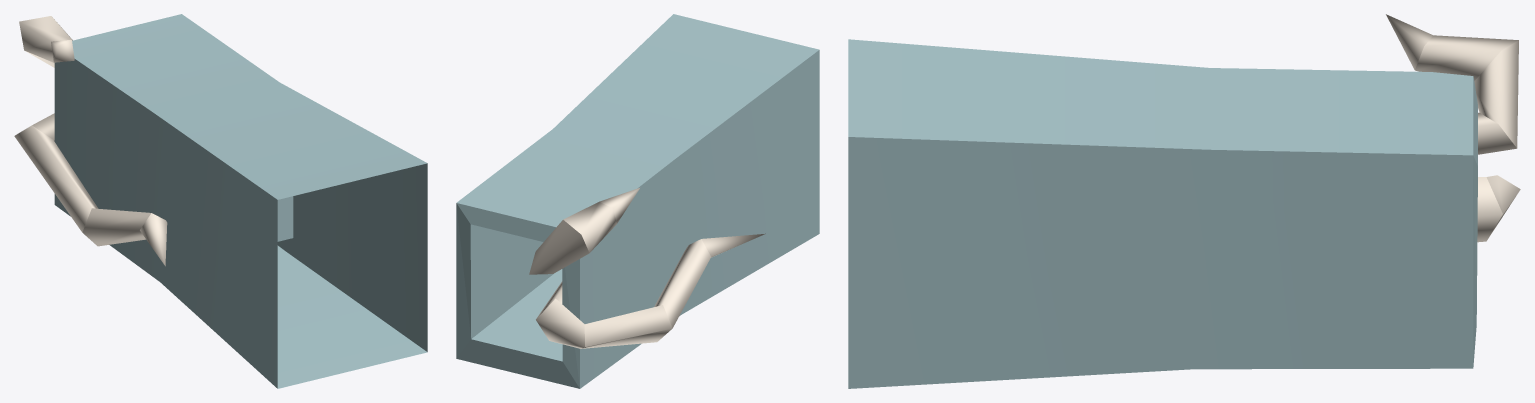
3 renders of one model, left to right at view 1: azimuth 30°, elevation 25°; view 2: azimuth 150°, elevation 25°; view 3: azimuth 270°, elevation 25°, orthographic. The views are drawn at different scales.
Parts seen in each view (by area): view 1: Object08; view 2: Object08; view 3: Object08.
Part boxes in pixels (bbox=[...]): Object08: bbox=[14, 14, 427, 388]; Object08: bbox=[456, 14, 819, 388]; Object08: bbox=[848, 14, 1520, 388].
Size of the model in its own units: 10107 by 10776 by 24709.
